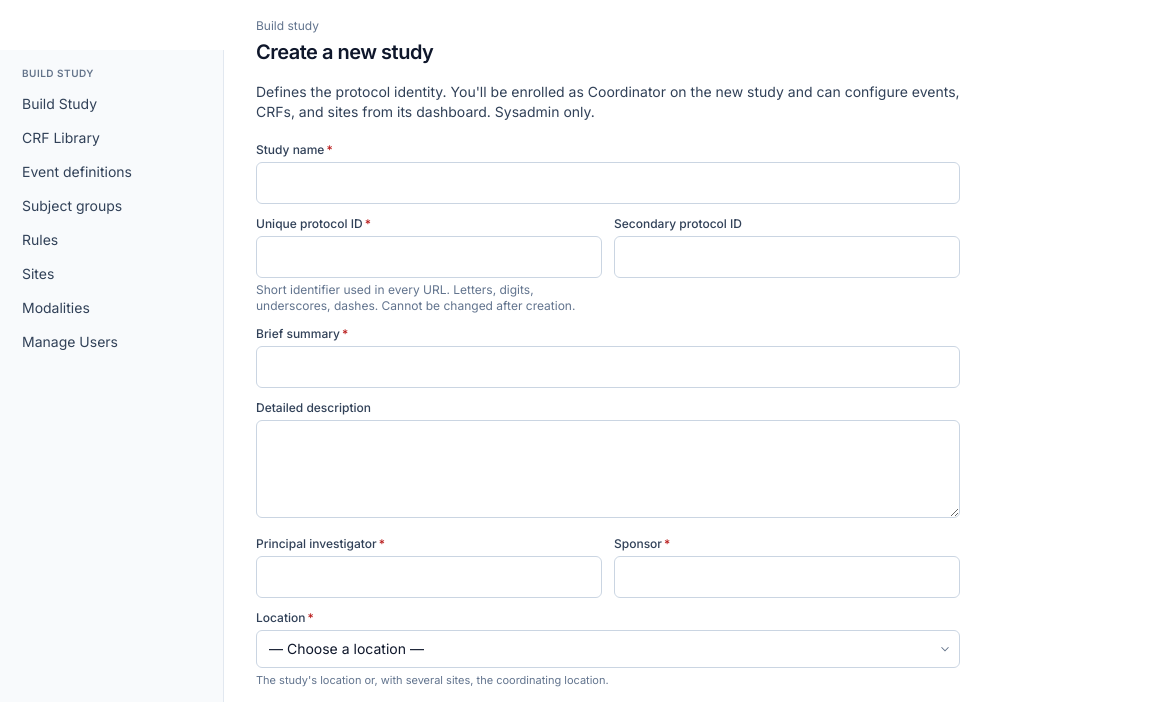
CreateStudyView — Standort (DR-040 phase 4) › shows the server’s locationId error on the select
This screenshot has width=1152, height=702.
In the field with id "study-name": (608, 183) [256, 162, 960, 204], type "Glaucoma Cohort"
In the field with id "study-uid": (429, 257) [256, 236, 602, 278], type "GLAU01"
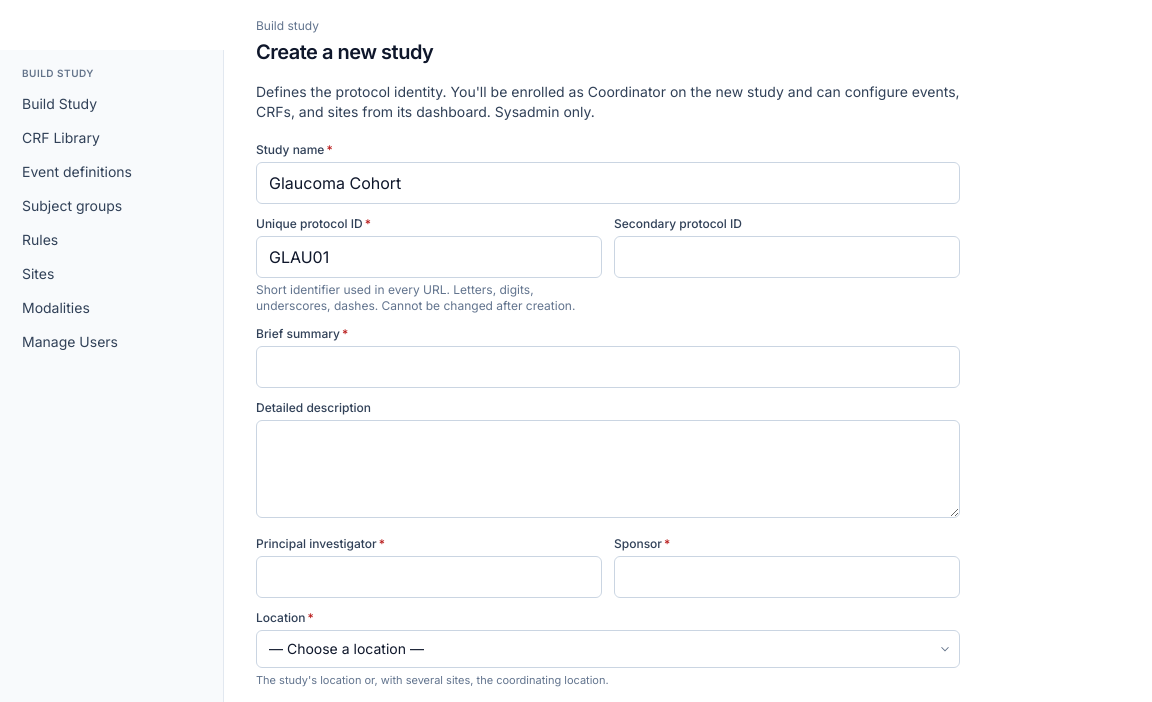
In the field with id "study-summary": (608, 367) [256, 346, 960, 388], type "A study"
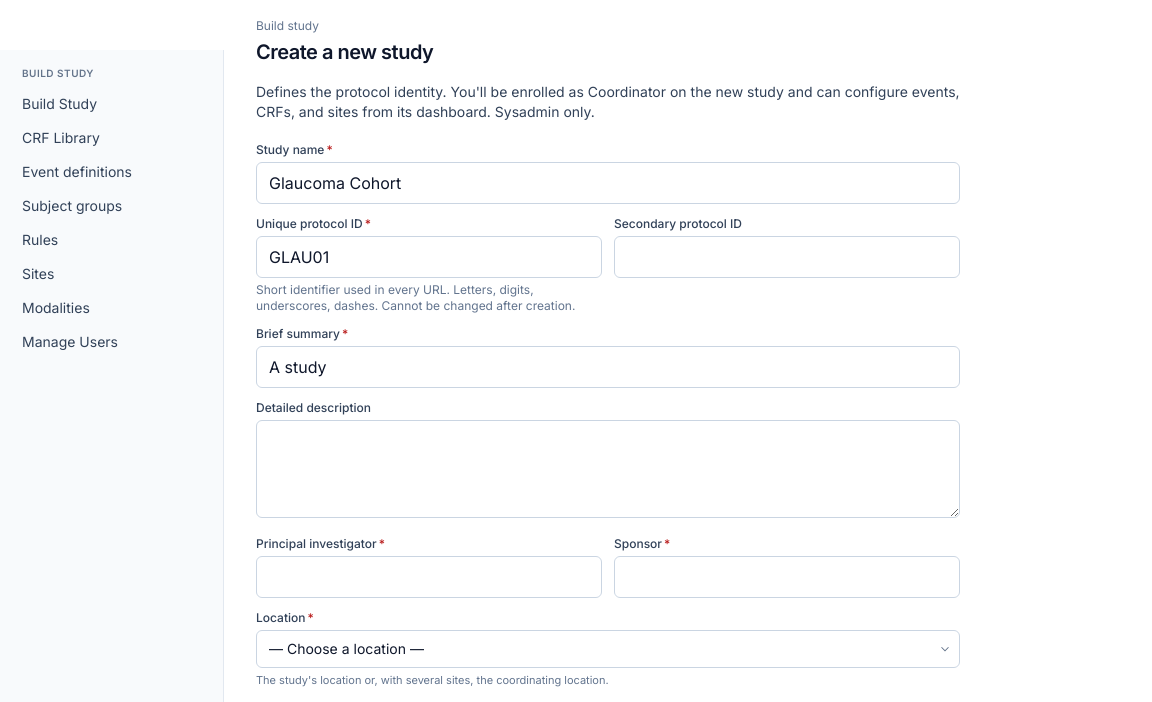
In the field with id "study-pi": (429, 577) [256, 556, 602, 598], type "Dr. Vision"
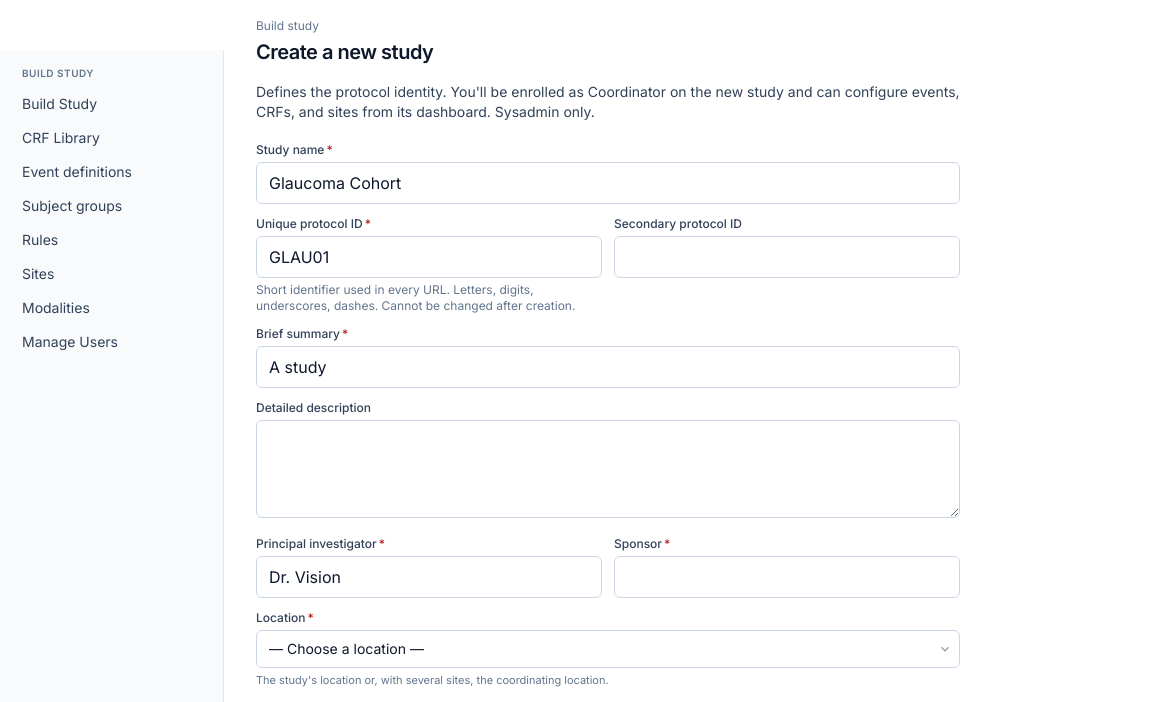
In the field with id "study-sponsor": (787, 577) [614, 556, 960, 598], type "MUW"
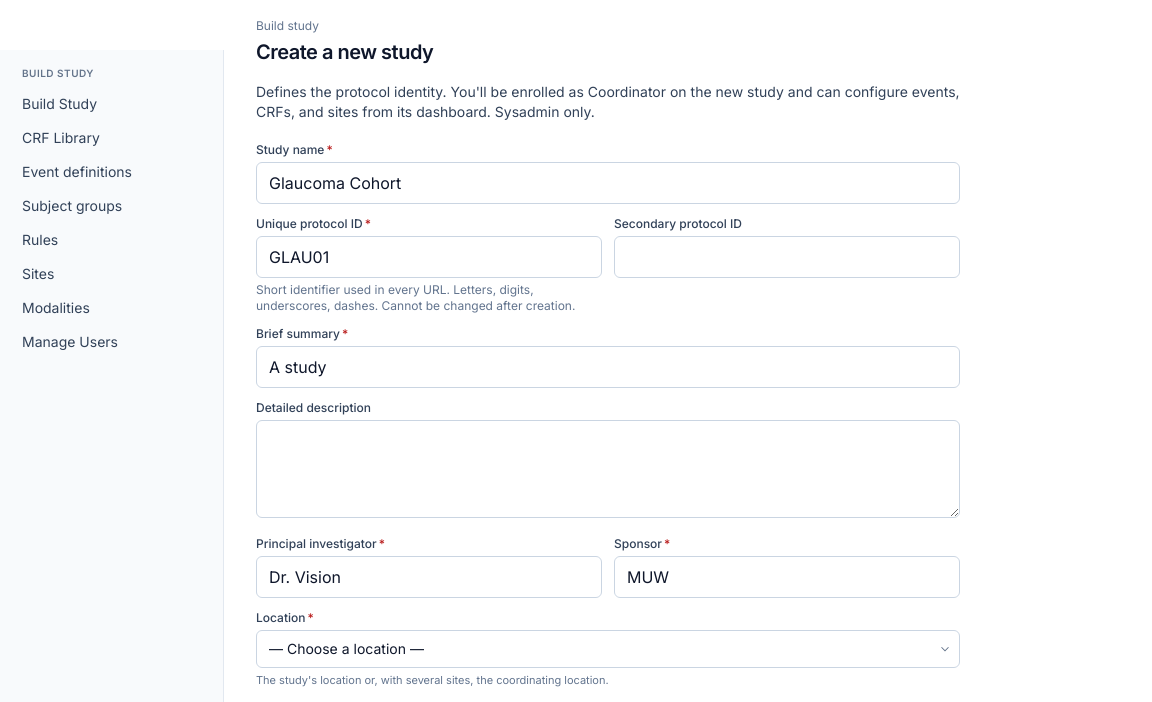
Select "MUW Augenklinik" in the dropdown with id "study-location": (608, 649) [256, 630, 960, 668]
(page scrolled)
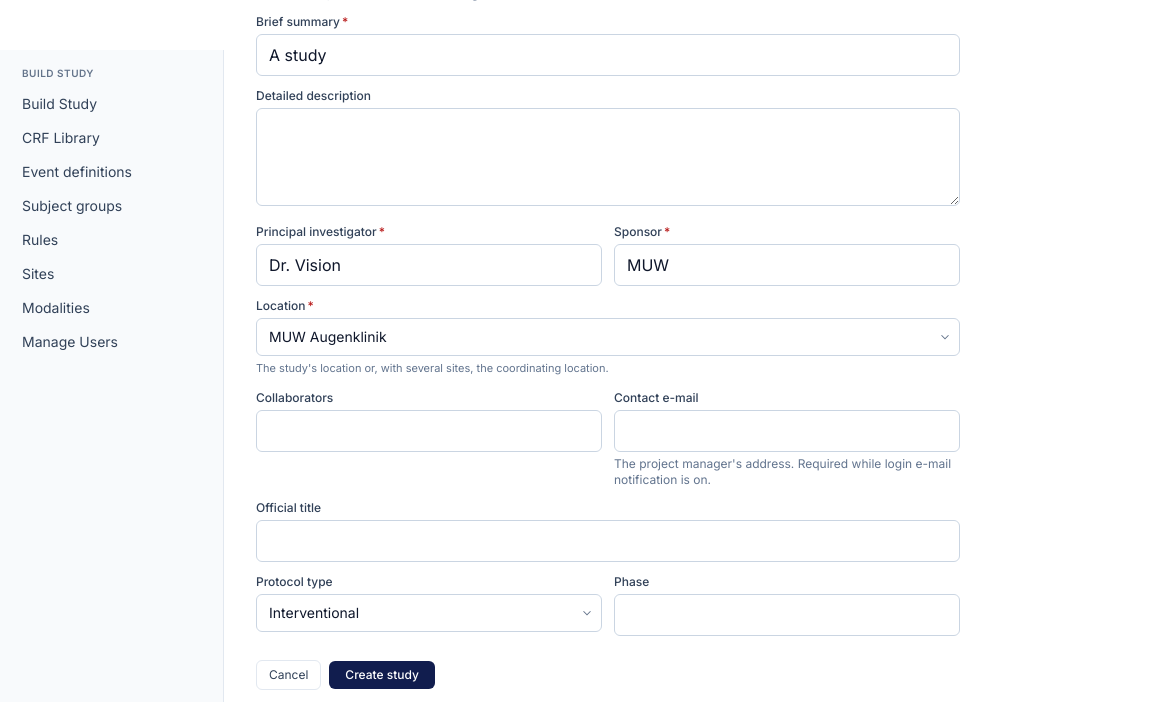
Click the button "Create study": (382, 675) [329, 661, 435, 689]
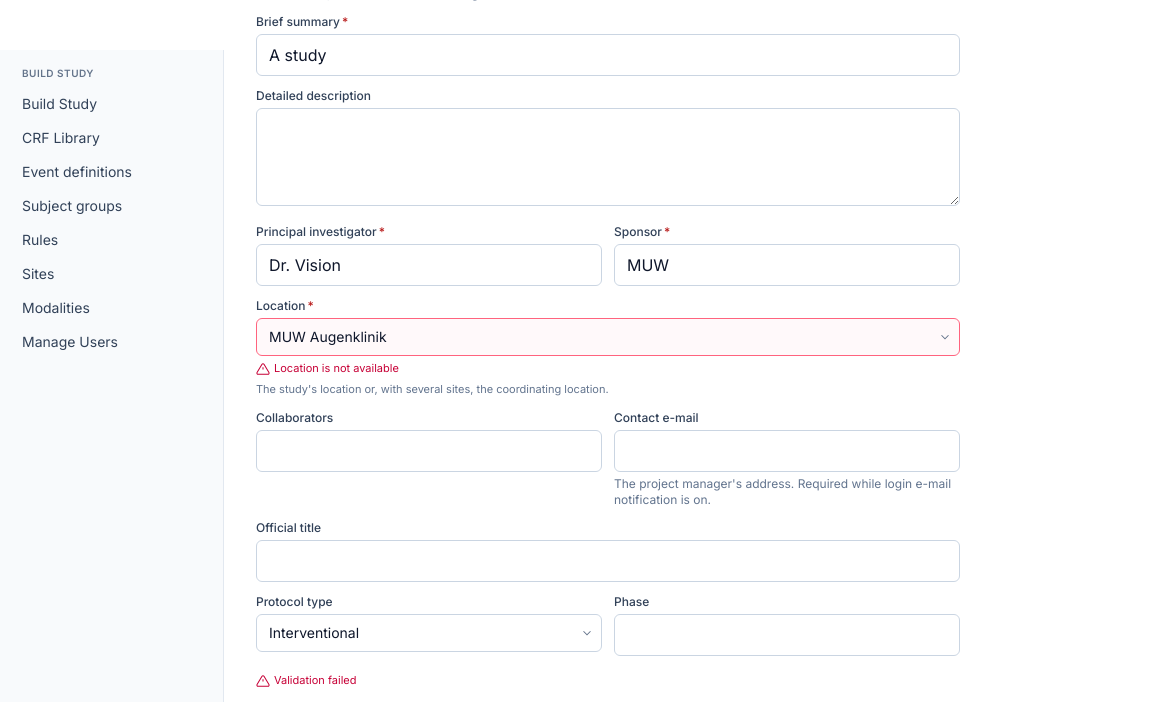
Check: the message with test id "study-location-error" reads "Location is not available", box [274, 361, 399, 375]
